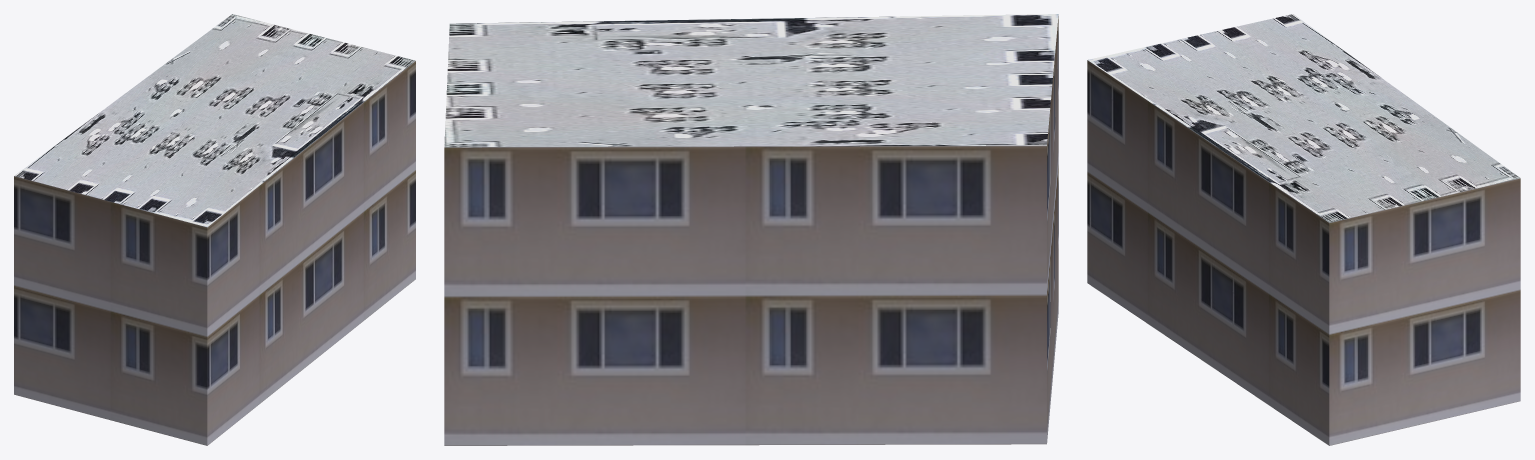
Rendered from ResTex__2359.fbx.
3 renders of one model, left to right at view 1: azimuth 30°, elevation 25°; view 2: azimuth 150°, elevation 25°; view 3: azimuth 270°, elevation 25°, orthographic. The views are drawn at different scales.
Visible parts, largest first — view 1: CityEngineMaterial_21_m, CityEngineMaterial_8_m; view 2: CityEngineMaterial_21_m, CityEngineMaterial_8_m; view 3: CityEngineMaterial_21_m, CityEngineMaterial_8_m.
Part boxes in pixels (x1,y1,x2,y2): CityEngineMaterial_21_m: [14, 61, 415, 445]; CityEngineMaterial_8_m: [14, 14, 415, 227]; CityEngineMaterial_21_m: [444, 16, 1058, 445]; CityEngineMaterial_8_m: [444, 14, 1058, 147]; CityEngineMaterial_21_m: [1087, 60, 1520, 445]; CityEngineMaterial_8_m: [1088, 14, 1520, 222].
Size of the model in its own units: 12.04 by 6 by 10.56.
2 materials, 2 textured.
